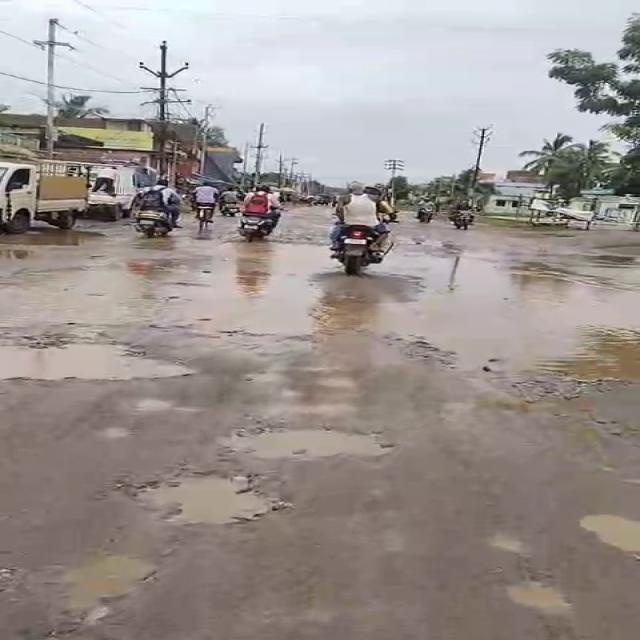pothole: (0, 255, 639, 394), (3, 334, 197, 381), (20, 236, 325, 264), (117, 478, 297, 524), (228, 423, 412, 465), (60, 556, 168, 610), (565, 512, 640, 548), (504, 580, 564, 616), (245, 409, 373, 422), (310, 367, 367, 396), (476, 531, 532, 555), (126, 397, 186, 417), (238, 366, 290, 387), (99, 422, 142, 446), (403, 235, 461, 250), (268, 390, 316, 404)
